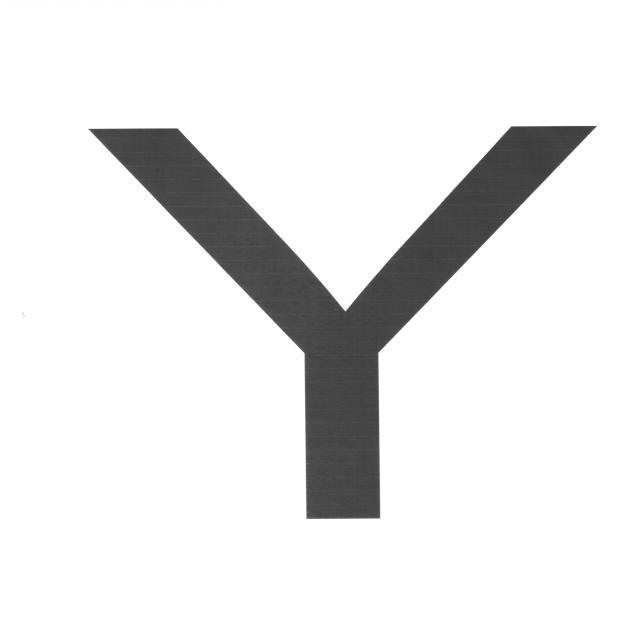y: (54, 104, 640, 547)
